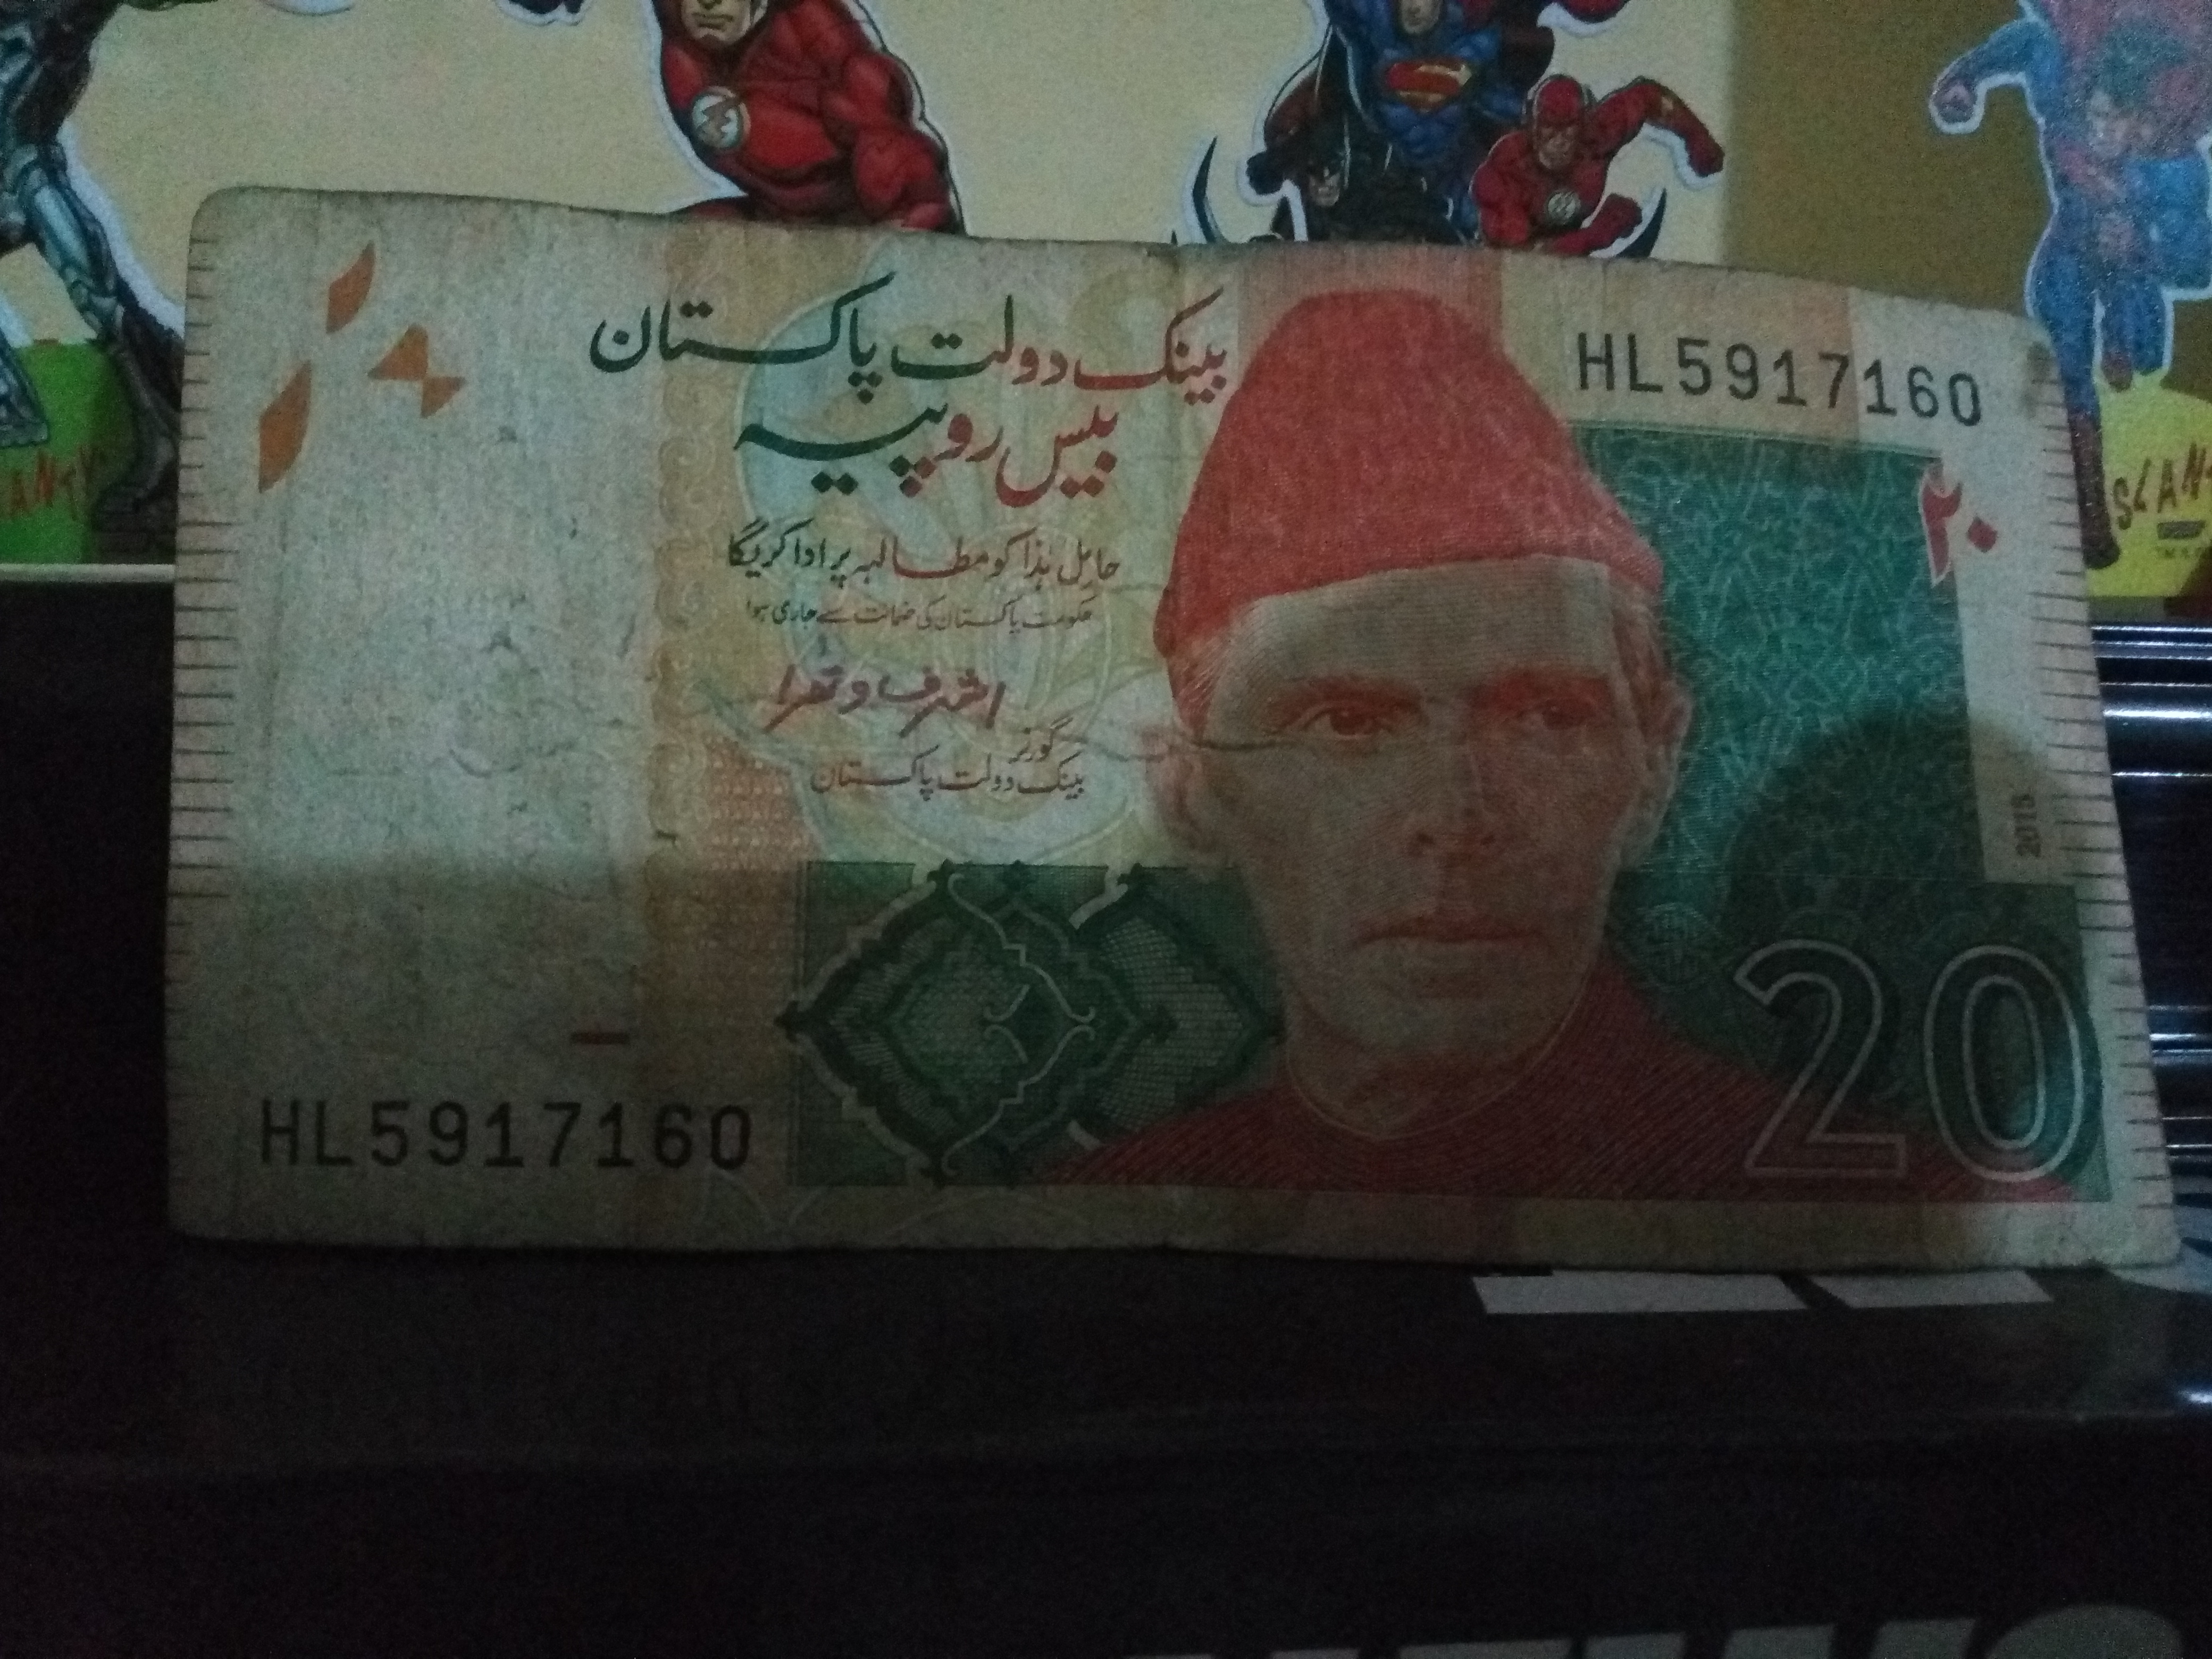20 rupee: (153, 145, 2175, 1373)
